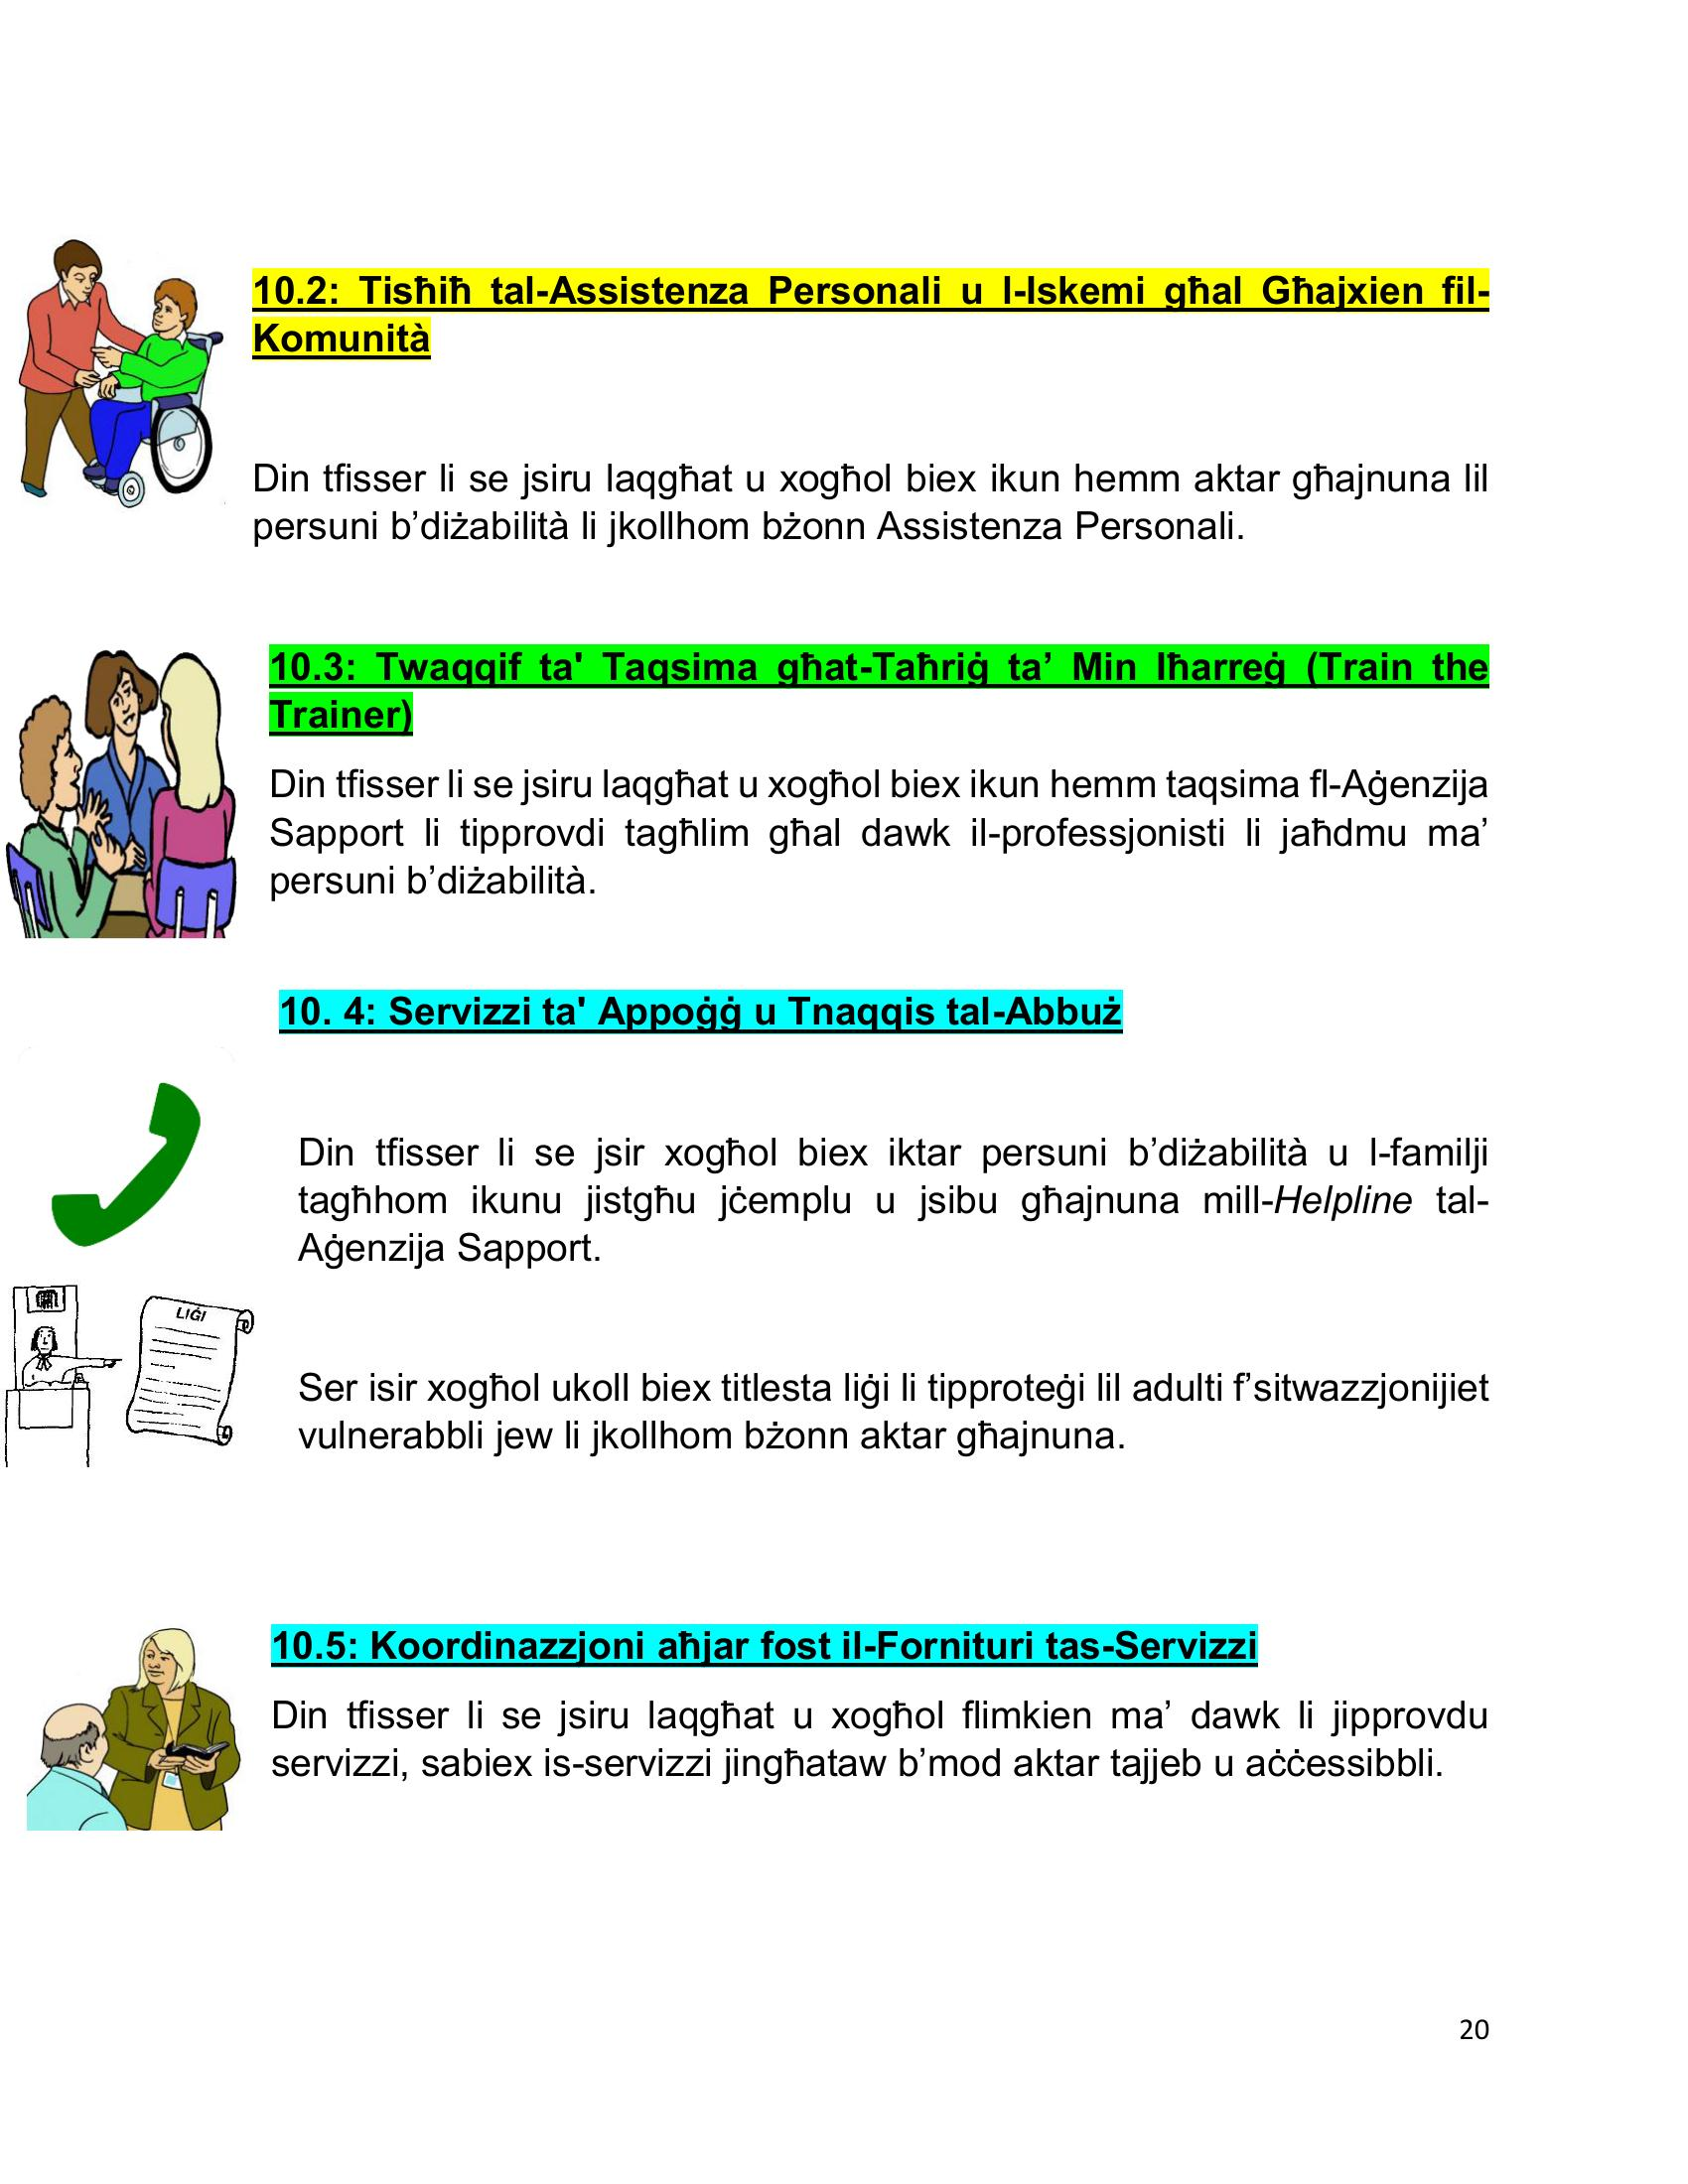text: (245, 245, 1546, 1813)
whiteout: (2, 1253, 261, 1496)
